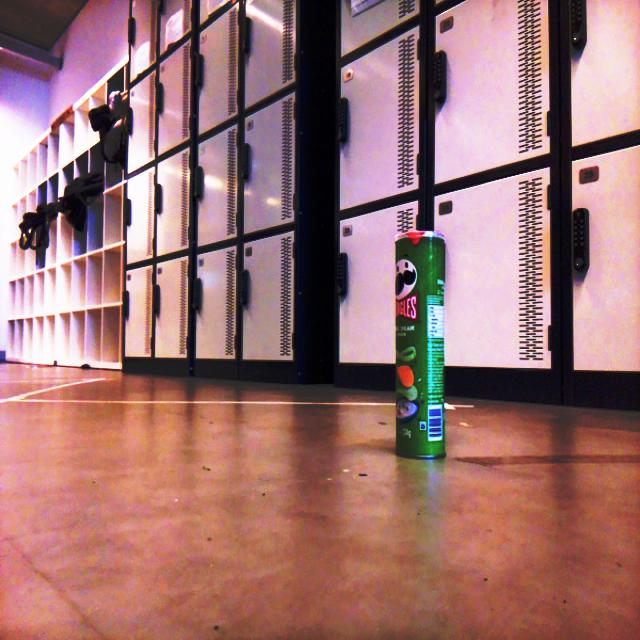greenpringles: (383, 223, 465, 473)
